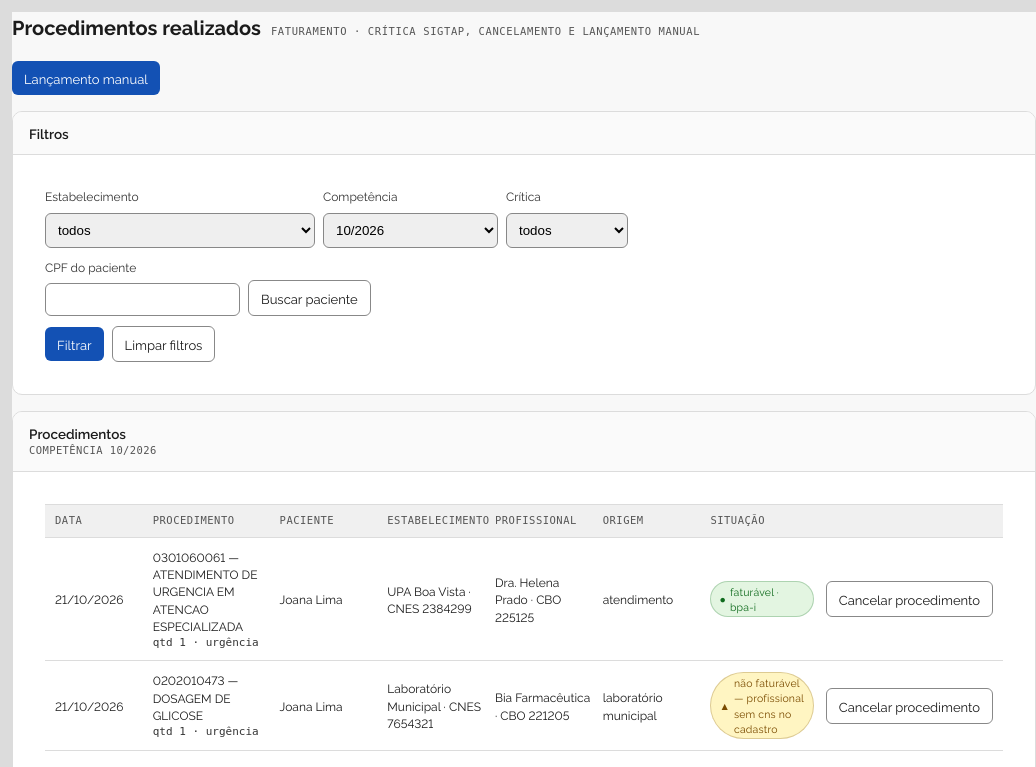
Test: BillingProcedures › todas as competências: sem competence na consulta (único jeito de ver o registro de UBS, competência nula)
Expected: the text "0202010473 — DOSAGEM DE GLICOSE" is shown, [153, 672, 238, 723]
Step 1. Select "todas as competências" in the dropdown labelled "Competência" → (410, 230), box [323, 213, 498, 248]
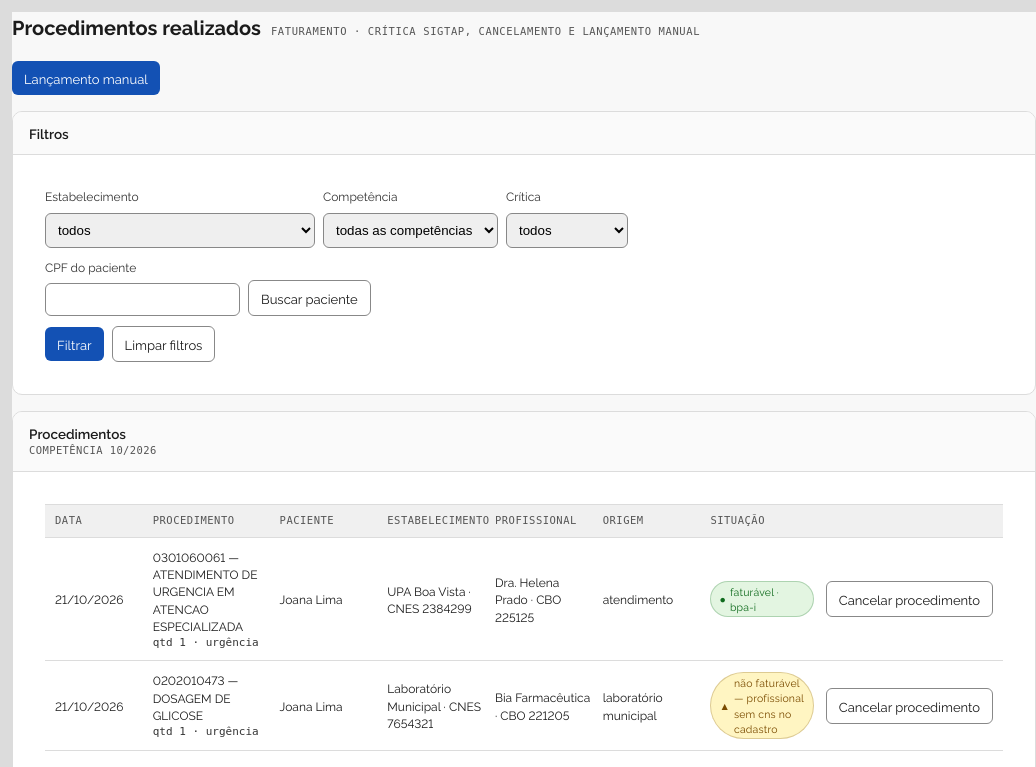
Step 2. Click the button "Filtrar" → click(74, 344), box [45, 327, 104, 361]
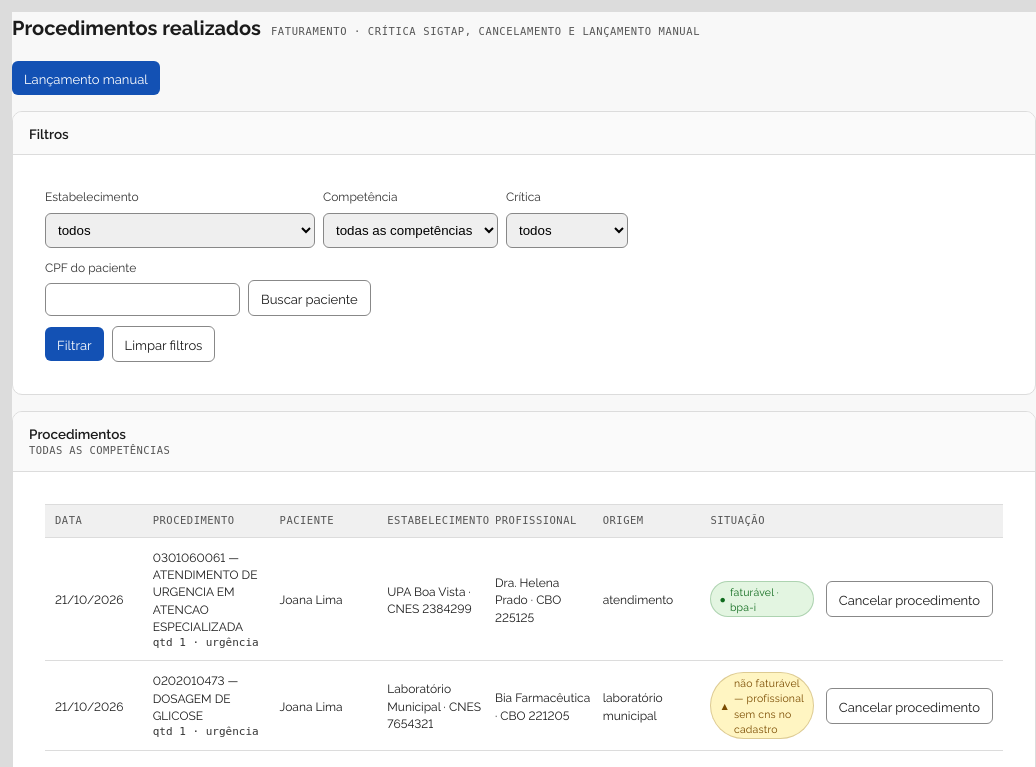
Result: the text "todas as competências" is shown at [29, 444, 170, 456]
